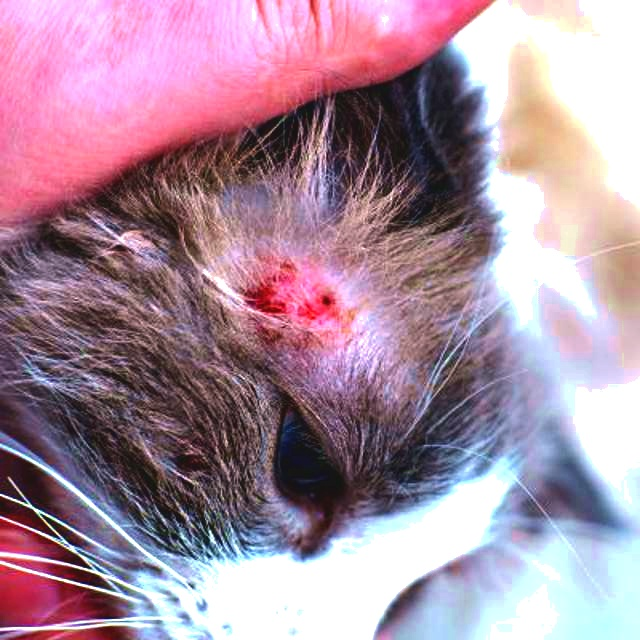ringworm: (242, 261, 355, 329)
